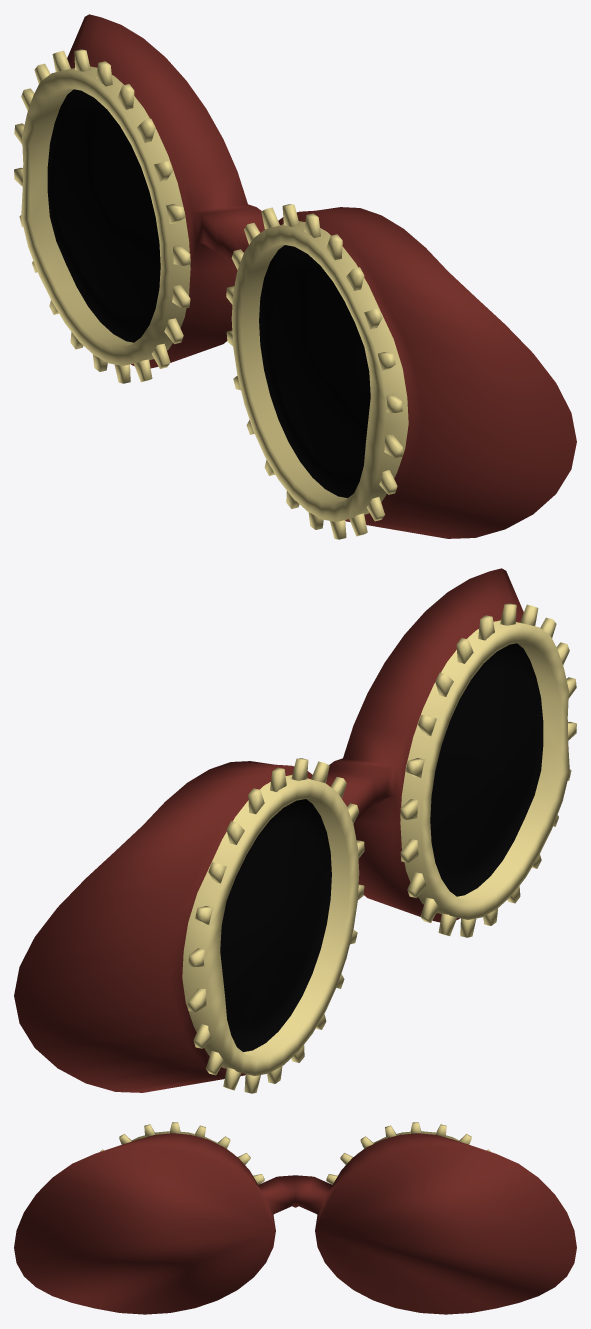
File: Glasses.fbx
The picture shows the model from 3 angles, top to bottom: view 1: azimuth 30°, elevation 25°; view 2: azimuth 150°, elevation 25°; view 3: azimuth 270°, elevation 25°; orthographic projection. The views are drawn at different scales.
Parts seen in each view (by area): view 1: Circle; view 2: Circle; view 3: Circle.
Part boxes in pixels (<box>): Circle: <box>14,14,576,539</box>; Circle: <box>14,568,576,1093</box>; Circle: <box>14,1122,576,1314</box>.
Size of the model in its own units: 14.17 by 30.56 by 87.45.
